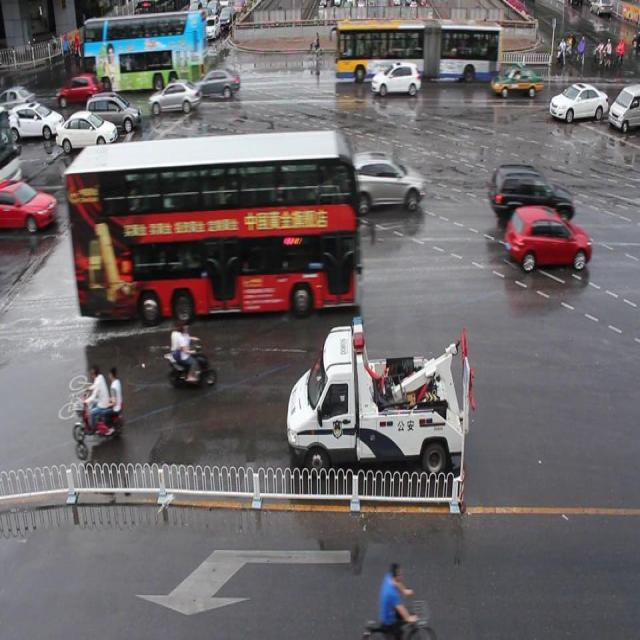car: (504, 203, 590, 272), (488, 163, 574, 227), (344, 150, 424, 210), (548, 80, 607, 124), (147, 78, 200, 116), (490, 65, 541, 100), (371, 62, 420, 98), (196, 66, 241, 98)
van: (66, 136, 353, 310), (334, 19, 502, 81)
